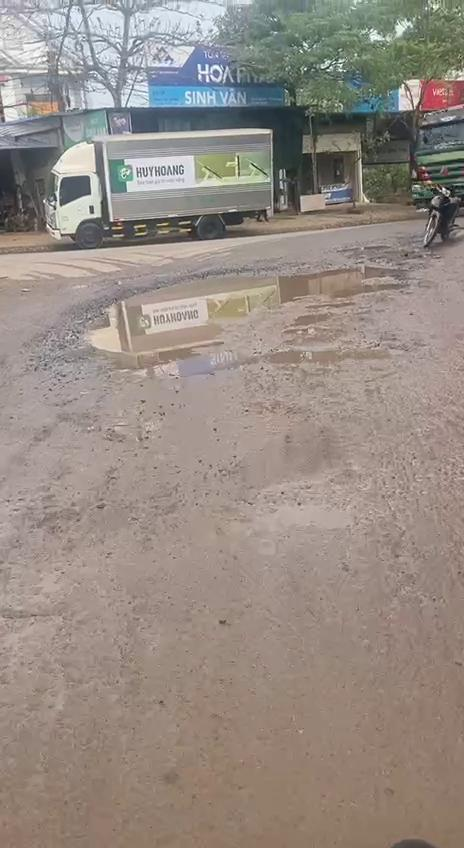pothole: (63, 266, 414, 376)
